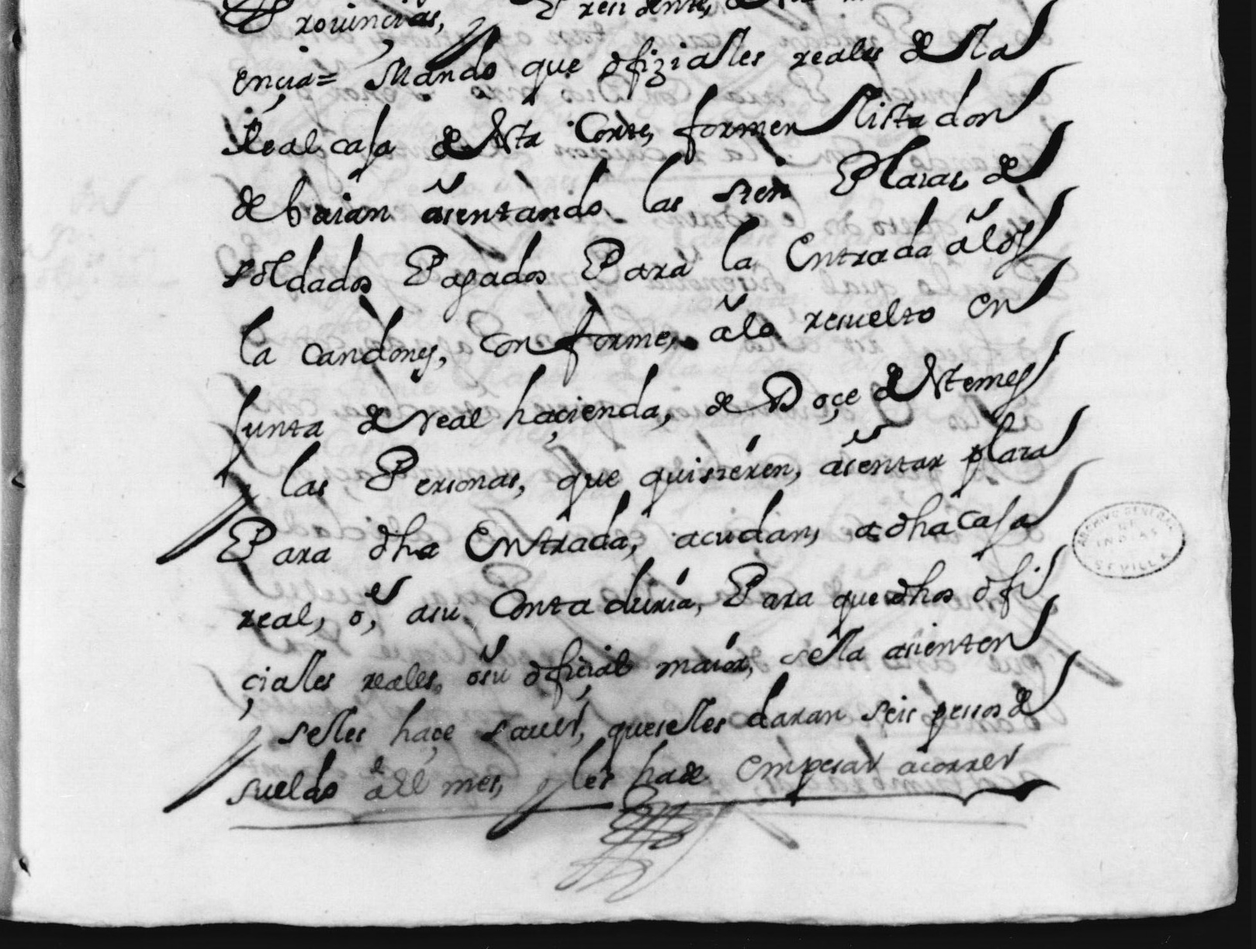lacandon: (240, 306, 438, 383)
